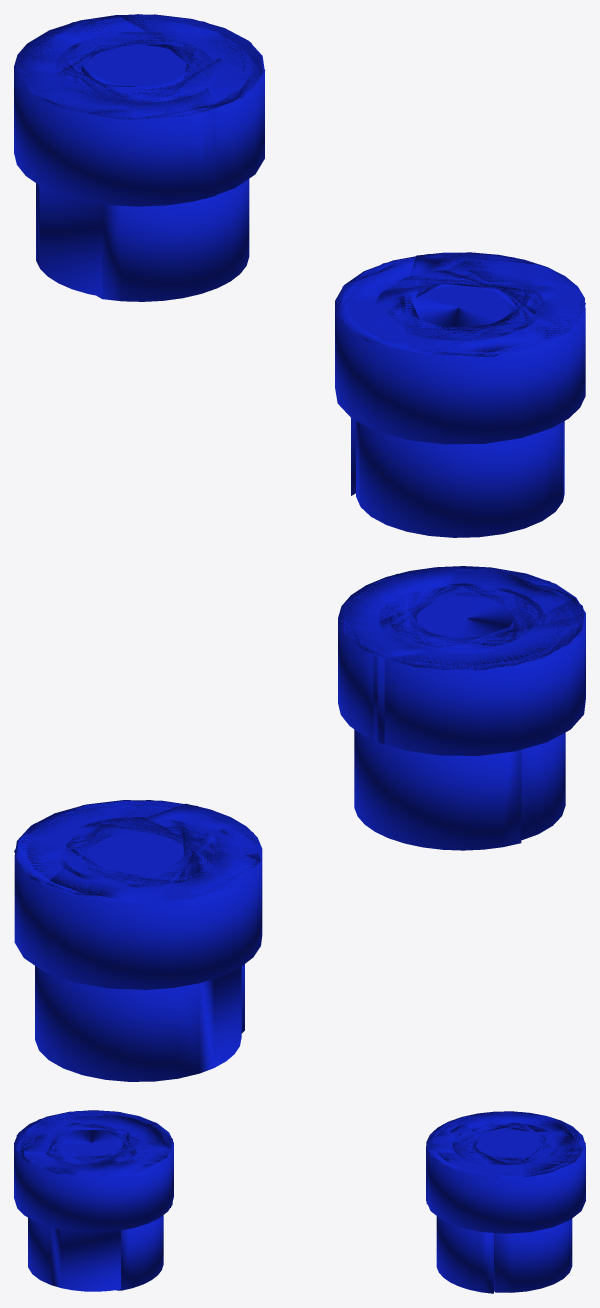
Rendered from tuyeau_element_000050.obj.
3 views of the same model, one above another, from view 1: azimuth 30°, elevation 25°; view 2: azimuth 150°, elevation 25°; view 3: azimuth 270°, elevation 25° (orthographic). The views are drawn at different scales.
Parts seen in each view (by area): view 1: tuyeau1_Cube.014, tuyeau2_Cube.017; view 2: tuyeau2_Cube.017, tuyeau1_Cube.014; view 3: tuyeau1_Cube.014, tuyeau2_Cube.017.
Part boxes in pixels (bbox=[...]): tuyeau1_Cube.014: bbox=[14, 14, 265, 301]; tuyeau2_Cube.017: bbox=[335, 252, 585, 537]; tuyeau2_Cube.017: bbox=[338, 566, 585, 850]; tuyeau1_Cube.014: bbox=[14, 800, 262, 1081]; tuyeau1_Cube.014: bbox=[426, 1111, 585, 1293]; tuyeau2_Cube.017: bbox=[14, 1110, 173, 1291].
Size of the model in its own units: 3588 by 2917 by 12623.
